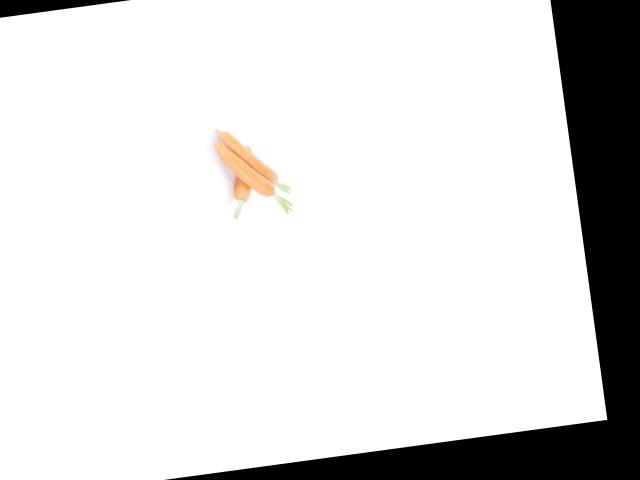carrot: (226, 141, 263, 218)
